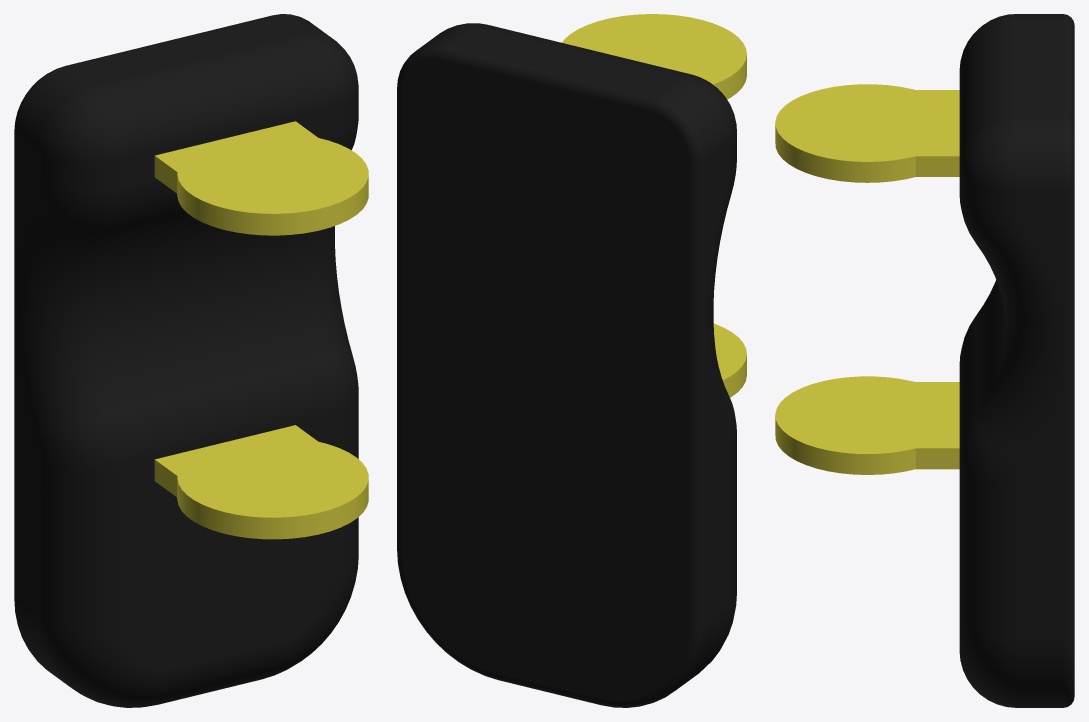
The model's file is foot_dexter.obj.
The picture shows the model from 3 angles, left to right: view 1: azimuth 30°, elevation 25°; view 2: azimuth 150°, elevation 25°; view 3: azimuth 270°, elevation 25°; orthographic projection. The views are drawn at different scales.
Visible parts, largest first — view 1: Body1:1, Body3, Body4, Body2, Body1; view 2: Body1:1, Body4, Body3; view 3: Body1:1, Body4, Body3, Body1, Body2.
Boxes of the visible parts, bbox=[...] form: Body1:1: bbox=[14, 14, 358, 707]; Body3: bbox=[177, 437, 368, 539]; Body4: bbox=[177, 133, 368, 235]; Body2: bbox=[154, 121, 317, 193]; Body1: bbox=[154, 425, 317, 497]; Body1:1: bbox=[397, 23, 736, 707]; Body4: bbox=[562, 14, 746, 99]; Body3: bbox=[713, 323, 746, 397]; Body1:1: bbox=[959, 14, 1074, 707]; Body4: bbox=[775, 84, 959, 182]; Body3: bbox=[775, 376, 956, 474]; Body1: bbox=[913, 382, 959, 469]; Body2: bbox=[913, 90, 959, 176].
Bounding box in the file's own units: 0.15 × 0.29 × 0.13.
